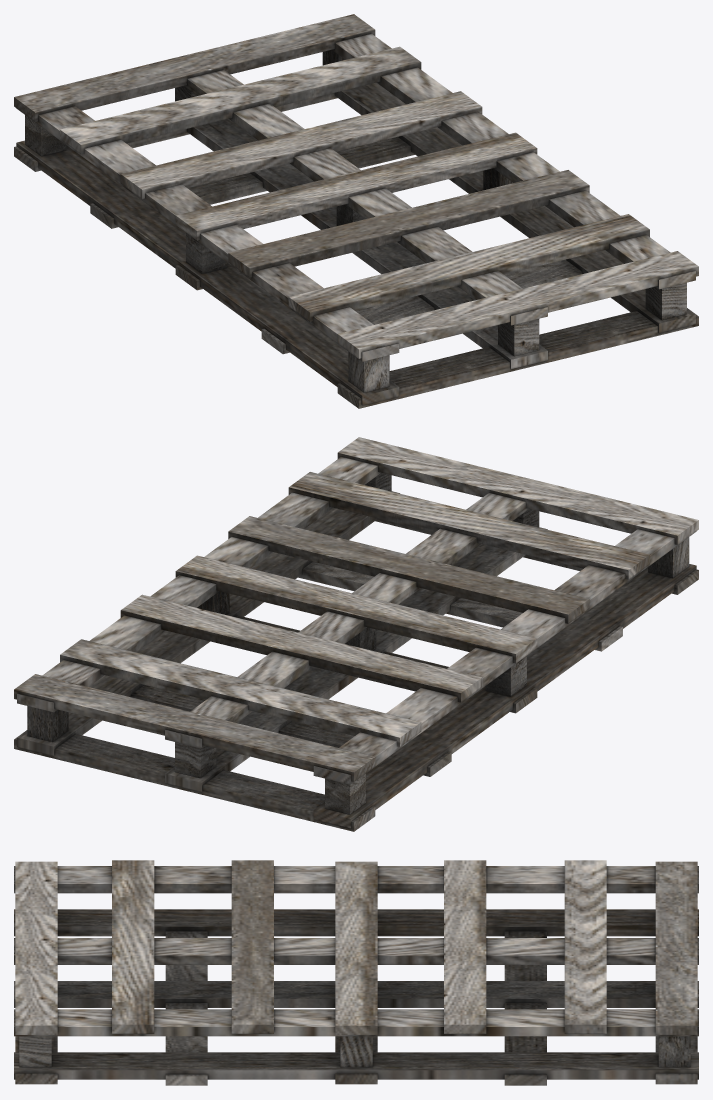
File: PalletNarrow.fbx
3 views of the same model, one above another, from view 1: azimuth 30°, elevation 25°; view 2: azimuth 150°, elevation 25°; view 3: azimuth 270°, elevation 25° (orthographic).
Parts seen in each view (by area): view 1: PalletNarrow; view 2: PalletNarrow; view 3: PalletNarrow.
Boxes of the visible parts, box(x1,y1,x2,y2) form: PalletNarrow: box(14, 14, 698, 408); PalletNarrow: box(14, 437, 698, 831); PalletNarrow: box(14, 860, 698, 1085).
Bounding box in the file's own units: 5.12 × 0.8858 × 9.03.
